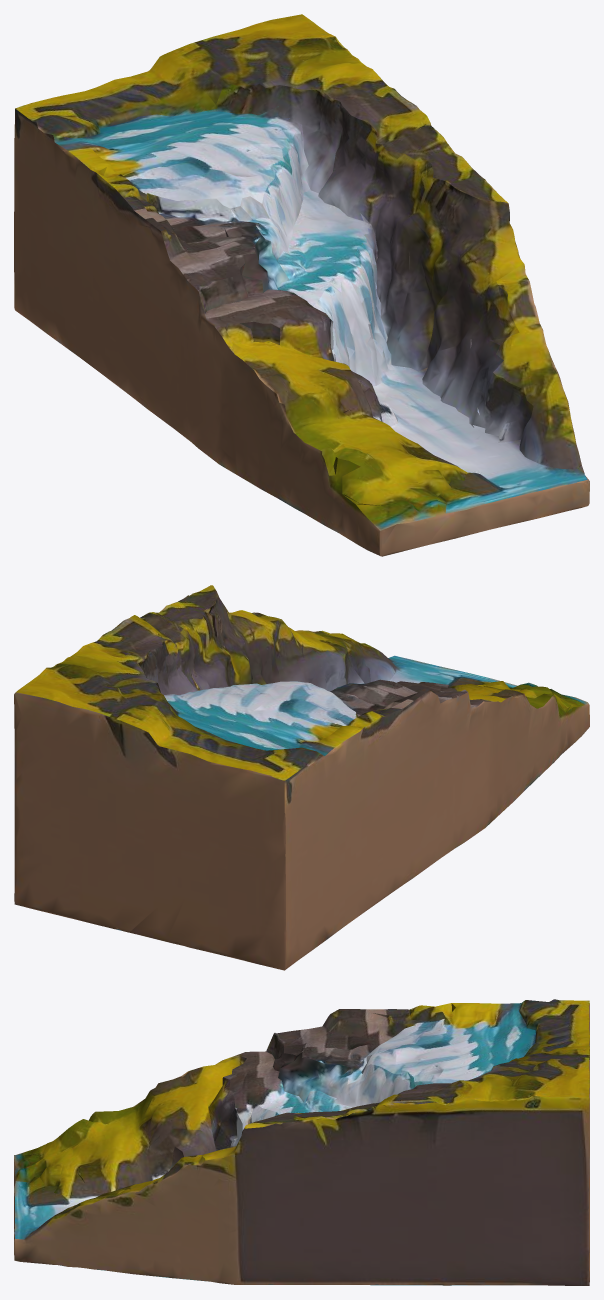
File: gullfoss.glb
3 views of the same model, one above another, from view 1: azimuth 30°, elevation 25°; view 2: azimuth 150°, elevation 25°; view 3: azimuth 270°, elevation 25° (orthographic). The views are drawn at different scales.
Visible parts, largest first — view 1: logan-textured.obj; view 2: logan-textured.obj; view 3: logan-textured.obj.
Boxes of the visible parts, x1,y1,x2,y2 form: logan-textured.obj: (14,14,589,556); logan-textured.obj: (14,585,589,970); logan-textured.obj: (14,999,589,1285).
Bounding box in the file's own units: 0.4942 × 0.3673 × 1.
1 material, 1 textured.
